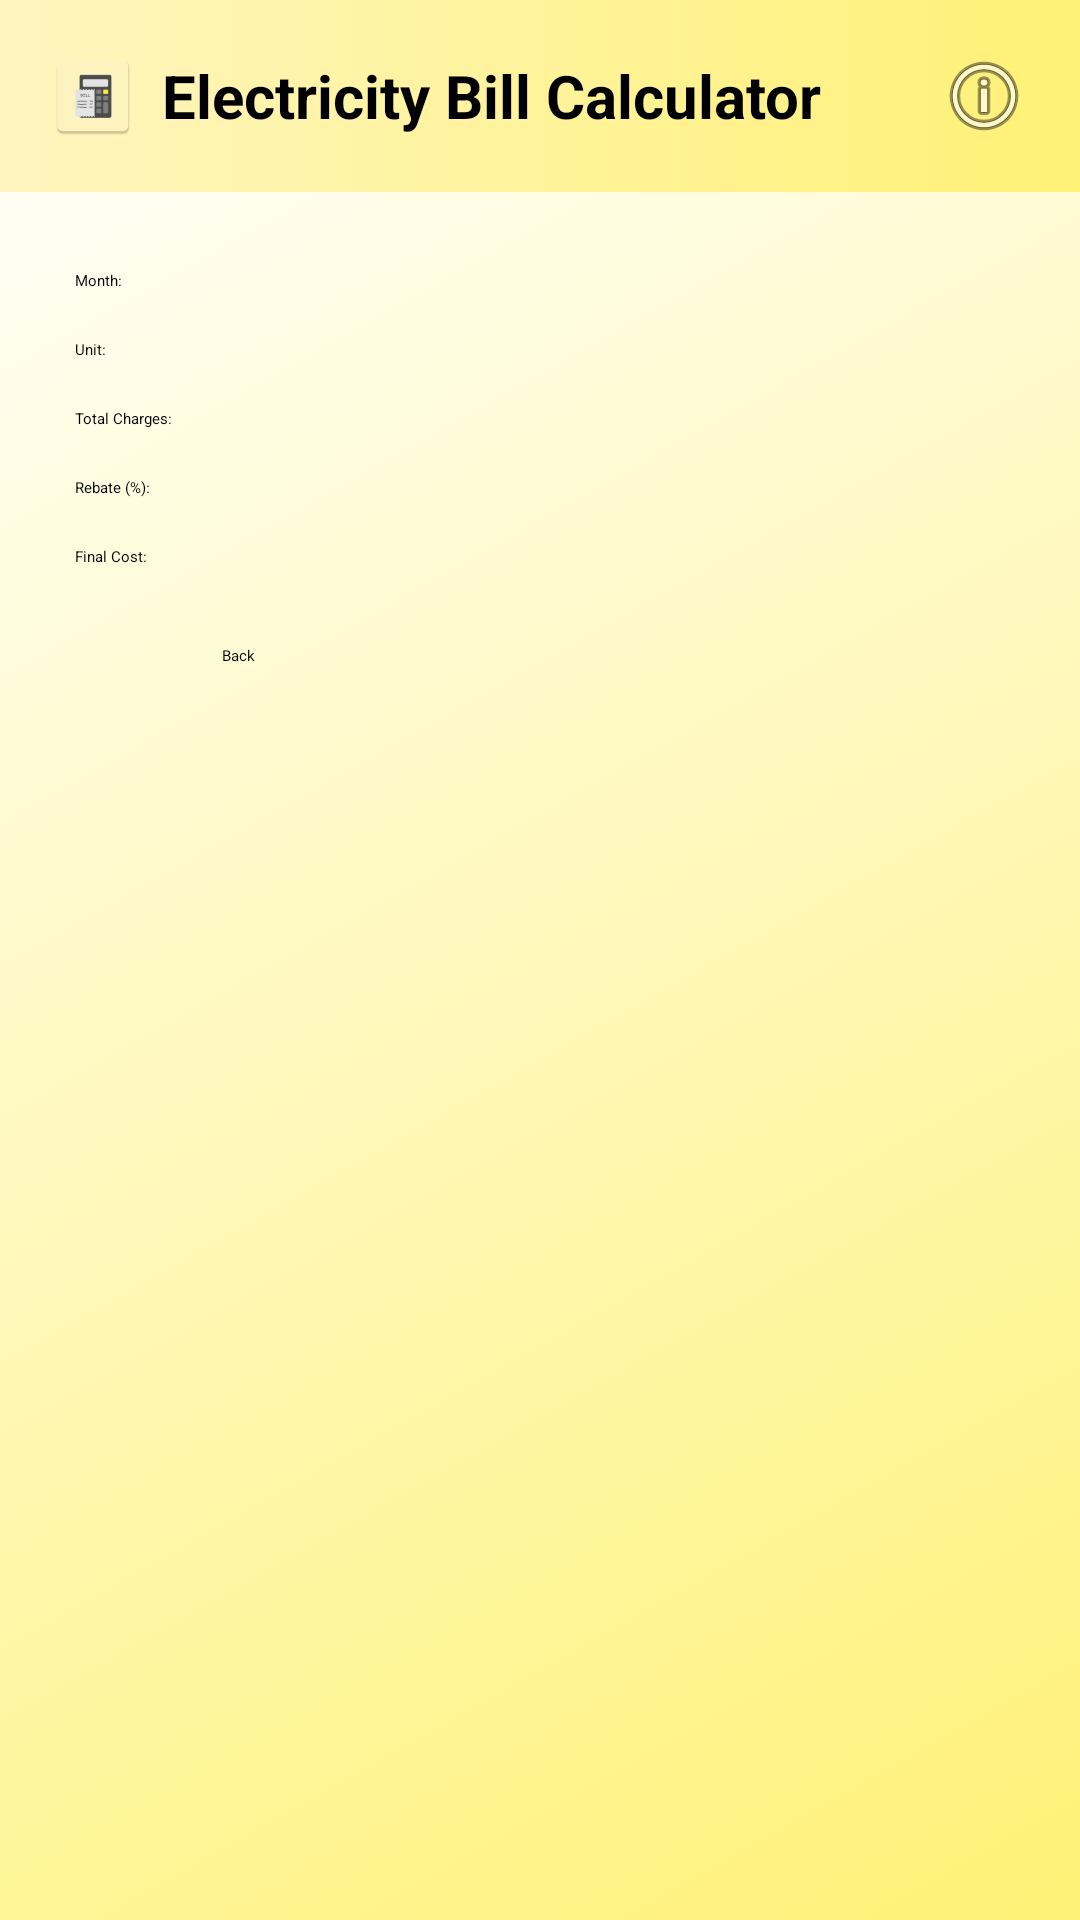

Where to tap for icons on this 1080 x 1920 app screen, as (x=x, y=y):
Info: (x=984, y=96)
